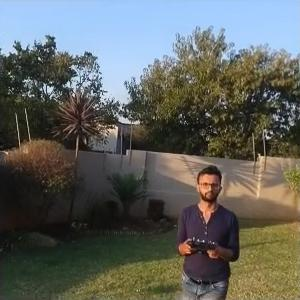follow: (171, 159, 242, 299)
